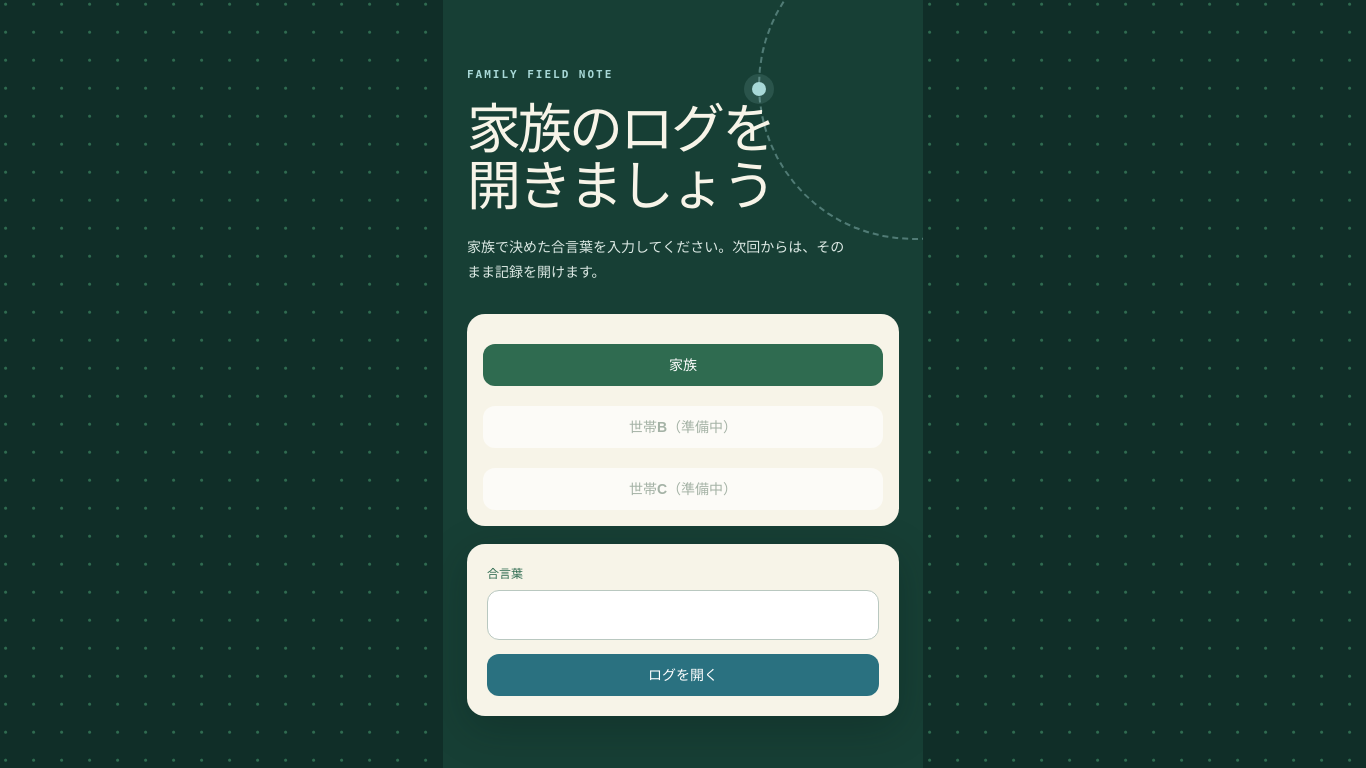
Test: AuthGate › 認証失敗時は再入力方法を表示する
Type "wrong-pass" into the password field labelled "合言葉" at (683, 615), box [487,590,879,640]
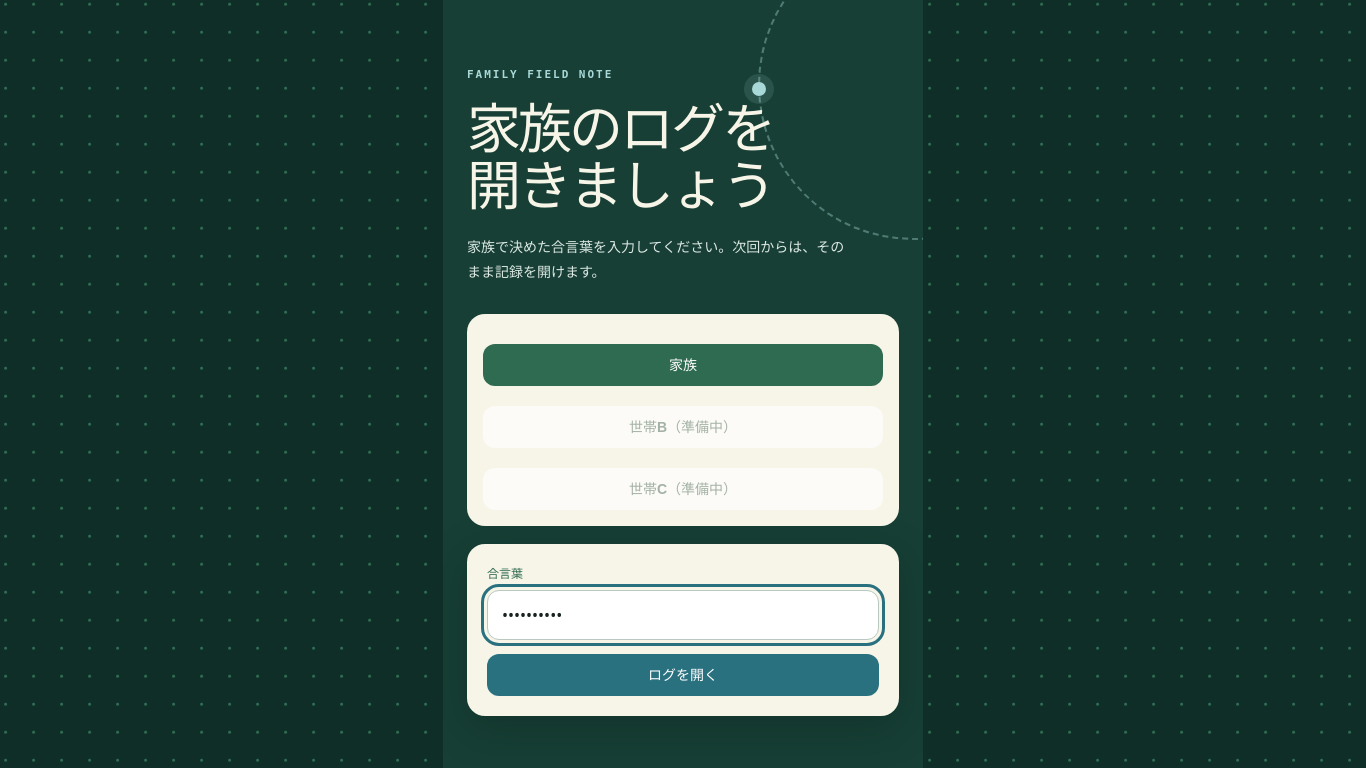
Click the button "ログを開く" at (683, 675), box [487,654,879,696]
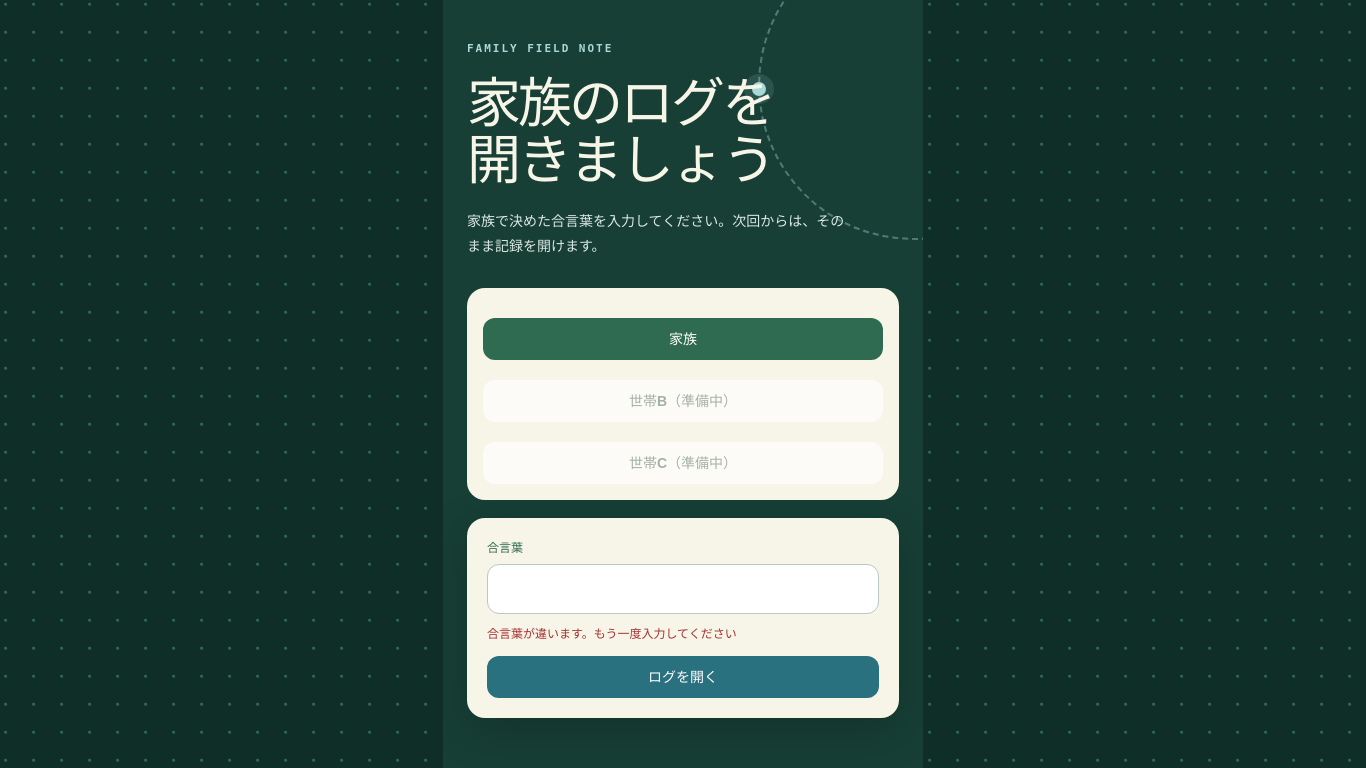
Expected: the text "合言葉が違います。もう一度入力してください" is shown, [487,625,737,642]
